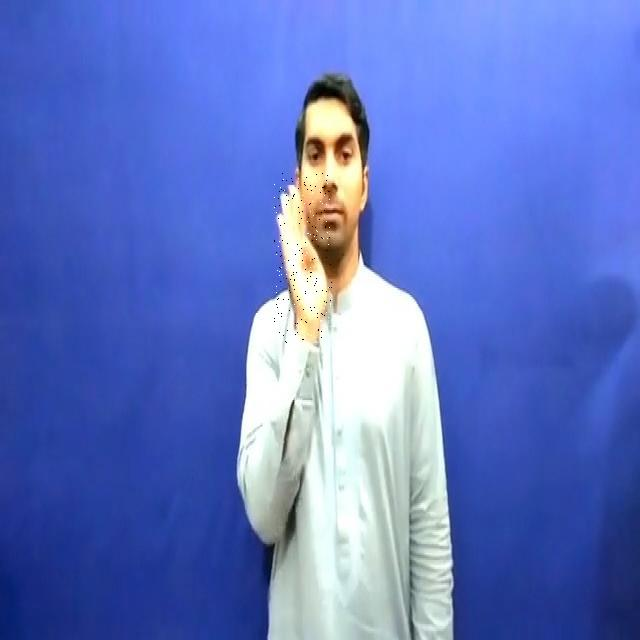napkin: (274, 173, 332, 344)
